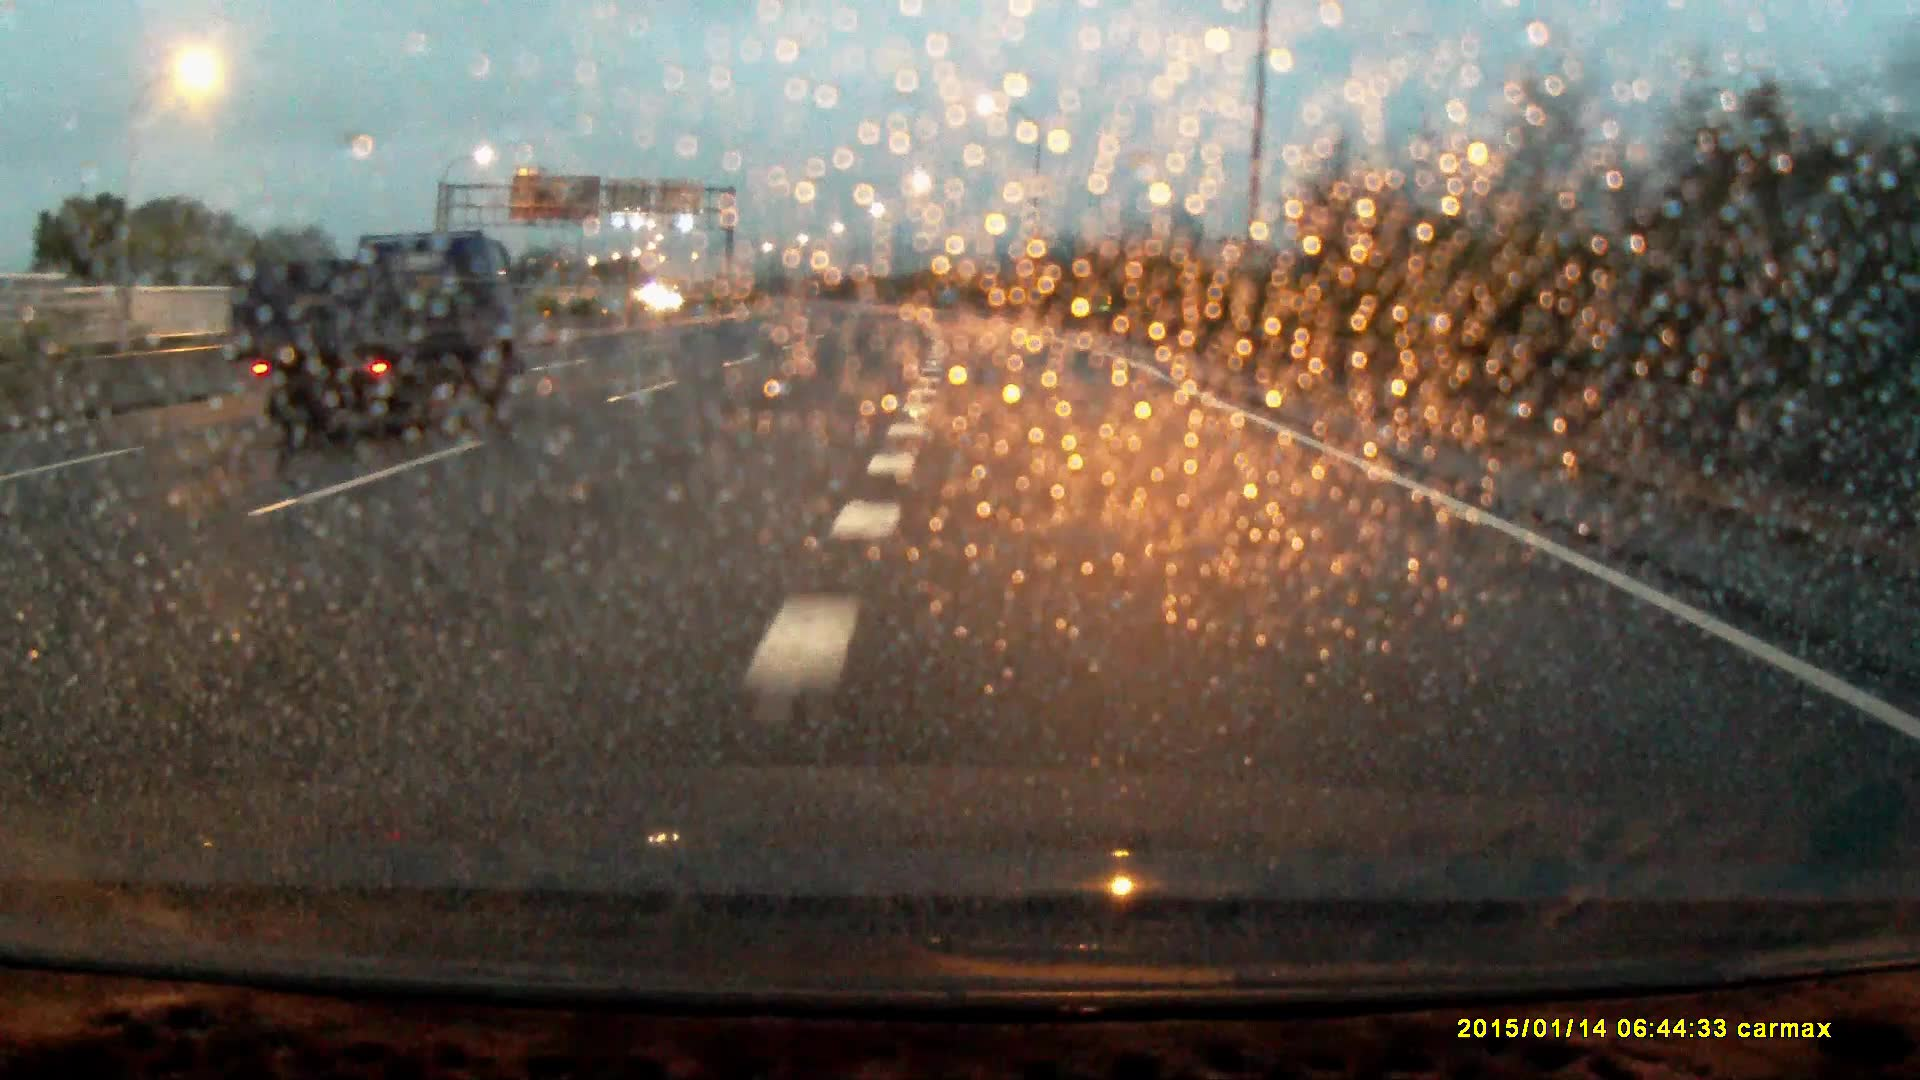vehicle: (237, 235, 508, 454)
